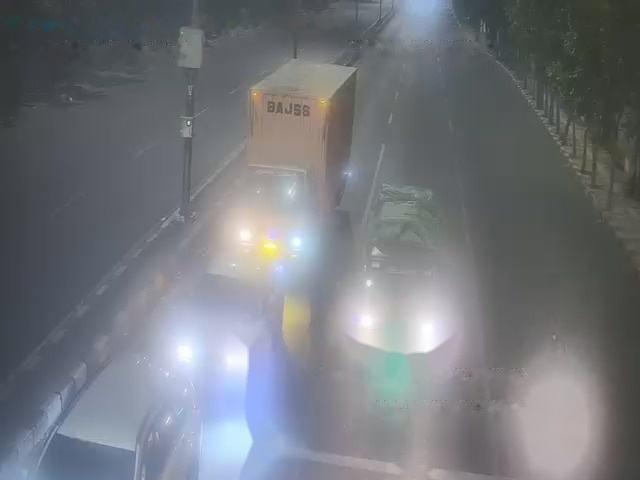Mobil: (25, 352, 197, 477), (177, 238, 276, 387), (360, 188, 437, 342)
Truk: (243, 61, 352, 256)
